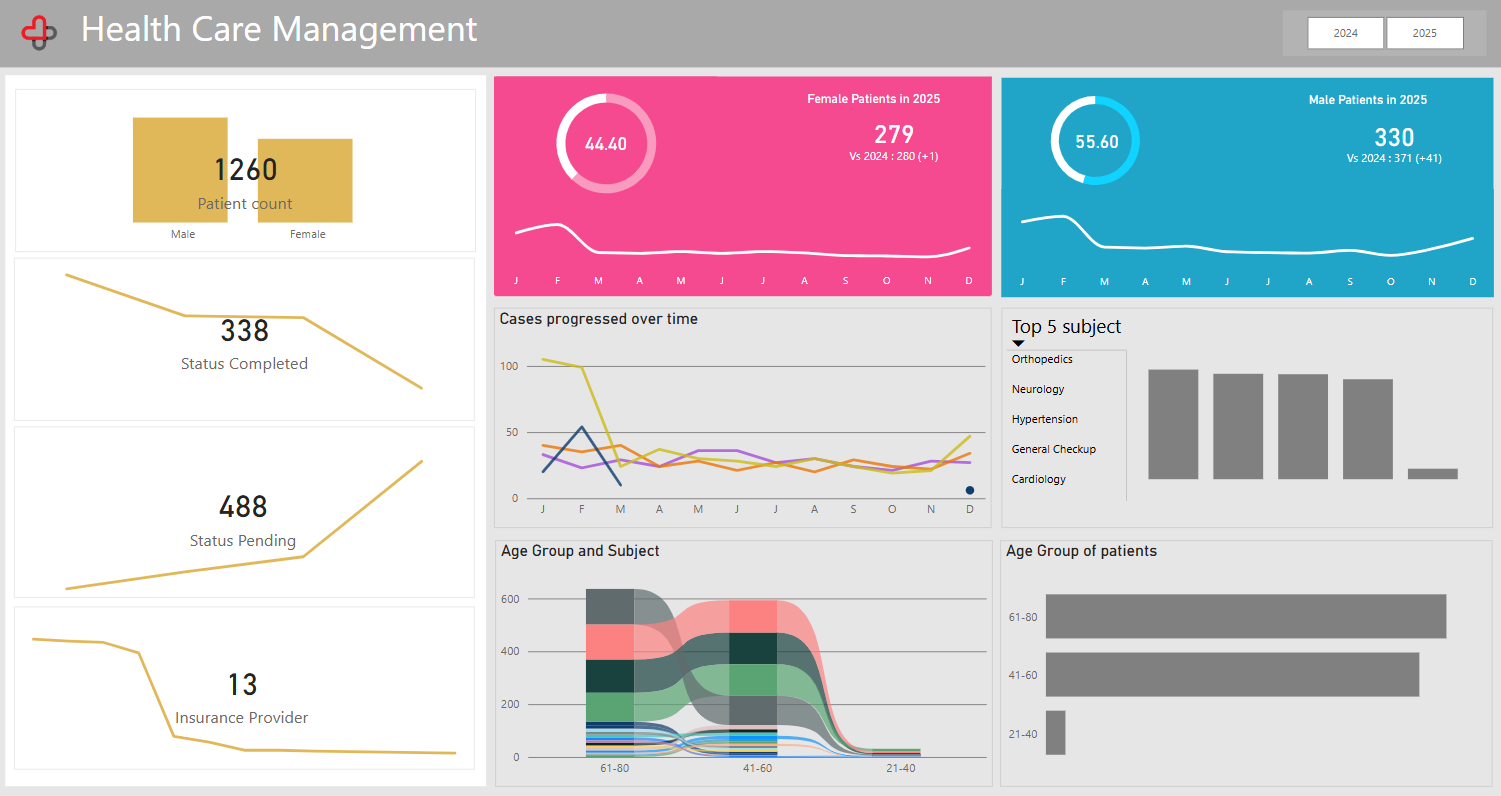

This screenshot's page, from the dashboard's own definition file:
{"tool":"powerbi","page":{"name":"Page 1","canvas":[1600,850],"ordinal":0},"visuals":[{"type":"group","id":"g1","title":"Female","box":[526.9,82,530,234.2],"z":0},{"type":"lineChart","fields":{"Y":["CountNonNull(Sheet1.Patient ID)"],"Category":["Sheet1.Pending Level"]},"box":[15.9,454.3,490.7,182.5],"z":0,"group":"g5"},{"type":"lineChart","fields":{"Category":["Sheet1.Insurance Provider"],"Y":["CountNonNull(Sheet1.Patient ID)"]},"box":[15.5,645.6,490.7,173.5],"z":0,"group":"g6"},{"type":"shape","box":[7,80,511.9,757.1],"z":1000,"group":"g7"},{"type":"group","id":"g2","title":"Male","box":[1066.7,84.5,524.2,233.7],"z":1000},{"type":"columnChart","fields":{"Category":["Sheet1.Gender"],"Y":["CountNonNull(Sheet1.Patient ID)"]},"box":[18.3,94.1,490.7,173.5],"z":1000,"group":"g3"},{"type":"card","fields":{"Values":["CountNonNull(Sheet1.Status)"]},"box":[167.5,462,168.7,106.1],"z":1000,"group":"g5"},{"type":"card","fields":{"Values":["Count(Sheet1.Insurance Provider)"]},"box":[188.4,652.9,179.1,125.2],"z":1000,"group":"g6"},{"type":"group","id":"g3","title":"Group 1","box":[18.3,94.1,490.7,173.5],"z":1500,"group":"g7"},{"type":"lineChart","fields":{"Y":["CountNonNull(Sheet1.Patient ID)"],"Category":["Sheet1.Status"]},"box":[16.9,273.8,490.7,173.5],"z":1500,"group":"g4"},{"type":"card","fields":{"Values":["CountNonNull(Sheet1.Patient ID)"]},"box":[174.4,111.2,187.8,120],"z":2000,"group":"g3"},{"type":"group","id":"g4","title":"Group 2","box":[16.9,273.8,490.7,173.5],"z":2000,"group":"g7"},{"type":"shape","box":[1072.9,328.6,517.1,234.3],"z":2000},{"type":"card","fields":{"Values":["CountNonNull(Sheet1.Status)"]},"box":[152.9,343.7,170.4,85.2],"z":2000,"group":"g4"},{"type":"shape","box":[526.9,82.2,530,232.9],"z":3000,"group":"g1"},{"type":"shape","box":[1066.9,84.5,523.7,233.3],"z":3000,"group":"g2"},{"type":"pivotTable","fields":{"Rows":["Sheet1.Subject"]},"box":[1067.2,328.7,522.9,234.2],"z":3000},{"type":"group","id":"g5","title":"Group 3","box":[15.9,454.3,490.7,182.5],"z":3000,"group":"g7"},{"type":"kpi","title":" Female Patients in 2025 ","fields":{"TrendLine":["Sheet1.Gender"],"Indicator":["Sheet1.Total Cases 2025"],"Goal":["Sheet1.Total Cases 2024"]},"box":[855.9,98.1,194.1,93.1],"z":3500,"group":"g1"},{"type":"kpi","title":"Male Patients in 2025 ","fields":{"TrendLine":["Sheet1.Gender"],"Indicator":["Sheet1.Total Cases 2025"],"Goal":["Sheet1.Total Cases 2024"]},"box":[1388.3,100.1,192.2,95.6],"z":3500,"group":"g2"},{"type":"lineChart","fields":{"Y":["CountNonNull(Sheet1.Gender)"],"Category":["Sheet1.Month Initial"]},"box":[1066.7,202.6,524.2,115.6],"z":3750,"group":"g2"},{"type":"lineChart","fields":{"Y":["CountNonNull(Sheet1.Gender)"],"Category":["Sheet1.Month Initial"]},"box":[528.5,203.4,527.1,112.9],"z":3750,"group":"g1"},{"type":"donutChart","fields":{"Category":["Sheet1.Pending Level"],"Y":["CountNonNull(Sheet1.Gender)"]},"box":[530,82,234.3,142.9],"z":4000,"group":"g1"},{"type":"donutChart","fields":{"Category":["Sheet1.Pending Level"],"Y":["CountNonNull(Sheet1.Gender)"]},"box":[1074.3,86.7,184.3,128.6],"z":4000,"group":"g2"},{"type":"columnChart","fields":{"Y":["CountNonNull(Sheet1.Patient ID)"],"Category":["Sheet1.Subject"]},"box":[1219,363,341.4,154.1],"z":4000},{"type":"group","id":"g6","title":"Group 4","box":[15.5,645.6,490.7,173.5],"z":4000,"group":"g7"},{"type":"card","fields":{"Values":["Sheet1.Male_Percentage"]},"box":[1134.3,135.2,67.1,35.7],"z":4500,"group":"g2"},{"type":"card","fields":{"Values":["Sheet1.Female_Percentage"]},"box":[611.4,136.2,68.6,34.3],"z":4500,"group":"g1"},{"type":"textbox","box":[0,0,1599.9,72.6],"z":5000},{"type":"lineChart","title":"Cases progressed over time","fields":{"Y":["CountNonNull(Sheet1.Patient ID)"],"Series":["Sheet1.Status"],"Category":["Sheet1.CDMonth Initial"]},"box":[526.9,328.7,529.6,234.2],"z":6000},{"type":"barChart","title":" Age Group of patients","fields":{"Category":["Sheet1.Age Group"],"Y":["CountNonNull(Sheet1.Patient ID)"]},"box":[1065.8,576.2,524.3,262.1],"z":7000},{"type":"ribbonChart","title":"Age Group and Subject","fields":{"Y":["CountNonNull(Sheet1.Patient ID)"],"Category":["Sheet1.Age Group"],"Series":["Sheet1.Subject"]},"box":[528.3,576.2,529.6,262.1],"z":8000},{"type":"slicer","fields":{"Values":["Sheet1.Inquiry Date.Variation.Date Hierarchy.Year"]},"box":[1366.8,11.5,216.5,48.4],"z":9000},{"type":"group","id":"g7","title":"Group 5","box":[7,80,511.9,757.1],"z":10000},{"type":"image","box":[0,0,85.5,72.7],"z":11000}]}

Visuals, with their boxes in screenshot pixels (x1, y1, x2, y2), scaled from the page's 1600x850 canvas onto the 1501x796 screenshot:
"Female" group: 494/77/992/296
lineChart - CountNonNull(Sheet1.Patient ID) x Sheet1.Pending Level: 15/425/475/596
lineChart - Sheet1.Insurance Provider x CountNonNull(Sheet1.Patient ID): 15/605/475/767
shape: 7/75/487/784
"Male" group: 1001/79/1492/298
columnChart - Sheet1.Gender x CountNonNull(Sheet1.Patient ID): 17/88/478/251
card - CountNonNull(Sheet1.Status): 157/433/315/532
card - Count(Sheet1.Insurance Provider): 177/611/345/729
"Group 1" group: 17/88/478/251
lineChart - CountNonNull(Sheet1.Patient ID) x Sheet1.Status: 16/256/476/419
card - CountNonNull(Sheet1.Patient ID): 164/104/340/217
"Group 2" group: 16/256/476/419
shape: 1007/308/1492/527
card - CountNonNull(Sheet1.Status): 143/322/303/402
shape: 494/77/992/295
shape: 1001/79/1492/298
pivotTable - Sheet1.Subject: 1001/308/1492/527
"Group 3" group: 15/425/475/596
" Female Patients in 2025 " kpi: 803/92/985/179
"Male Patients in 2025 " kpi: 1302/94/1483/183
lineChart - CountNonNull(Sheet1.Gender) x Sheet1.Month Initial: 1001/190/1492/298
lineChart - CountNonNull(Sheet1.Gender) x Sheet1.Month Initial: 496/190/990/296
donutChart - Sheet1.Pending Level x CountNonNull(Sheet1.Gender): 497/77/717/211
donutChart - Sheet1.Pending Level x CountNonNull(Sheet1.Gender): 1008/81/1181/202
columnChart - CountNonNull(Sheet1.Patient ID) x Sheet1.Subject: 1144/340/1464/484
"Group 4" group: 15/605/475/767
card - Sheet1.Male_Percentage: 1064/127/1127/160
card - Sheet1.Female_Percentage: 574/128/638/160
textbox: 0/0/1500/68
"Cases progressed over time" lineChart: 494/308/991/527
" Age Group of patients" barChart: 1000/540/1492/785
"Age Group and Subject" ribbonChart: 496/540/992/785
slicer - Sheet1.Inquiry Date.Variation.Date Hierarchy.Year: 1282/11/1485/56
"Group 5" group: 7/75/487/784
image: 0/0/80/68
